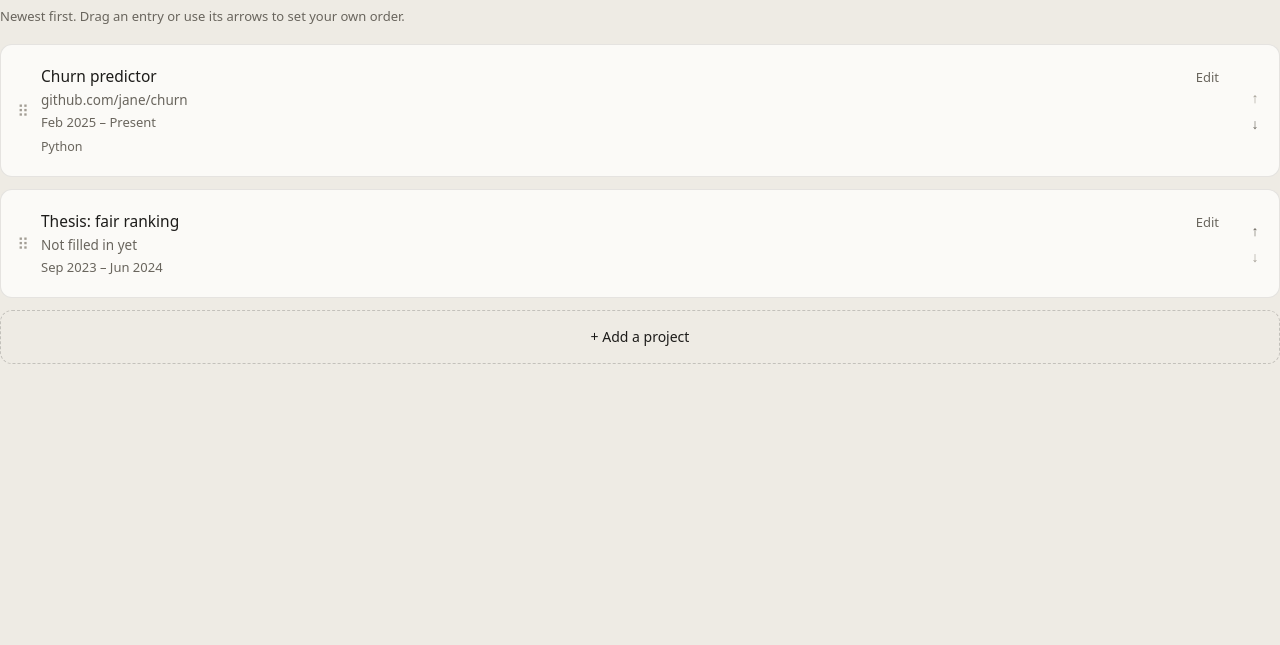
Test: ProjectsSection (PRO-13) › adds a blank project and opens it with the cursor in Project
Click the button "+ Add a project" at (640, 337), box [0, 310, 1279, 364]
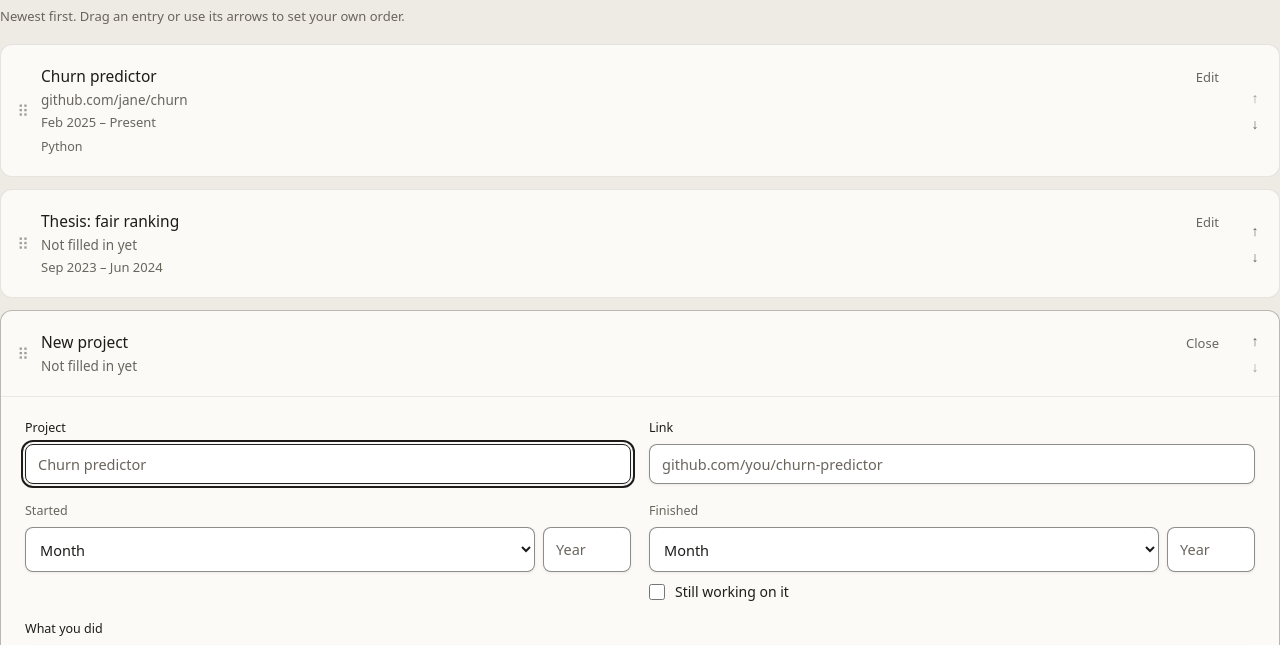
Result: the button "New project Not filled in yet Close" is shown at [29, 311, 1243, 396]
